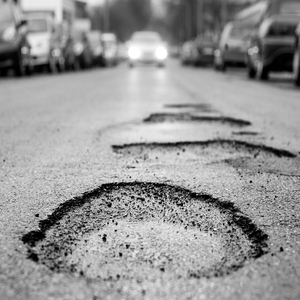pothole: (18, 179, 270, 278), (112, 139, 294, 162), (144, 111, 253, 129)
